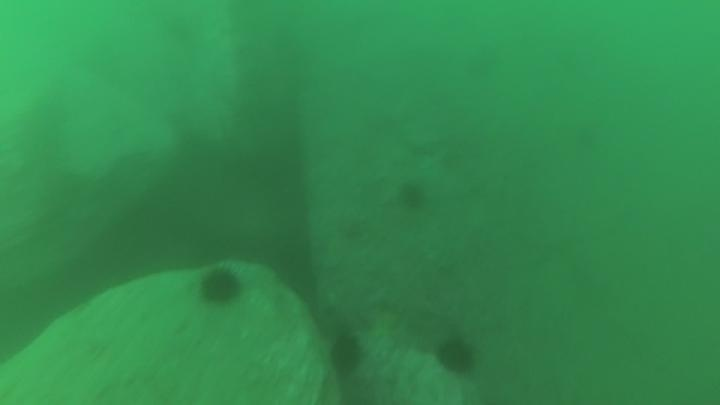echinus: (195, 264, 245, 309), (433, 333, 479, 379), (325, 330, 367, 380), (395, 178, 429, 213)
